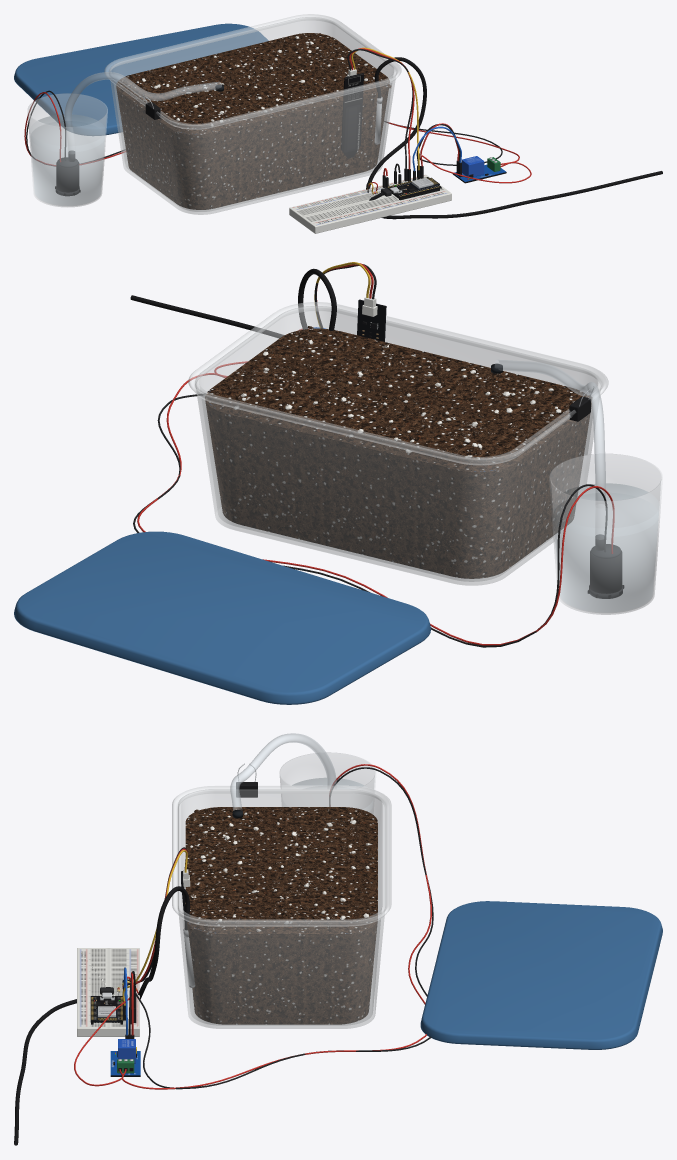
Rendered from farmhand.glb.
3 renders of one model, top to bottom at view 1: azimuth 30°, elevation 25°; view 2: azimuth 150°, elevation 25°; view 3: azimuth 270°, elevation 25°, orthographic. The views are drawn at different scales.
Visible parts, largest first — view 1: Soil, Pot, Lid, Cup, Water, Breadboard, Wires, Rim, Crumbs, Tube, Probe, UsbCable (+3 smaller); view 2: Soil, Pot, Lid, Cup, Water, Rim, Crumbs, Wires, Tube, Pump, Probe, UsbCable; view 3: Soil, Lid, Pot, Wires, Rim, Crumbs, Breadboard, Cup, Tube, Relay, ESP32, UsbCable.
Part boxes in pixels (x1=…): Soil: x1=116, y1=33, x2=389, y2=209; Pot: x1=109, y1=17, x2=396, y2=214; Lid: x1=14, y1=23, x2=268, y2=135; Cup: x1=28, y1=93, x2=107, y2=207; Water: x1=30, y1=114, x2=104, y2=205; Breadboard: x1=289, y1=174, x2=451, y2=233; Wires: x1=24, y1=47, x2=531, y2=194; Rim: x1=104, y1=14, x2=401, y2=129; Crumbs: x1=119, y1=33, x2=391, y2=135; Tube: x1=64, y1=72, x2=221, y2=153; Probe: x1=341, y1=68, x2=363, y2=158; UsbCable: x1=369, y1=171, x2=662, y2=219; Soil: x1=205, y1=328, x2=591, y2=578; Pot: x1=195, y1=306, x2=601, y2=585; Lid: x1=14, y1=531, x2=430, y2=704; Cup: x1=549, y1=454, x2=662, y2=614; Water: x1=553, y1=483, x2=659, y2=612; Rim: x1=188, y1=302, x2=608, y2=465; Crumbs: x1=205, y1=326, x2=591, y2=469; Wires: x1=133, y1=262, x2=614, y2=647; Tube: x1=495, y1=359, x2=605, y2=539; Pump: x1=588, y1=534, x2=623, y2=598; Probe: x1=357, y1=297, x2=386, y2=341; UsbCable: x1=130, y1=295, x2=284, y2=338; Soil: x1=185, y1=807, x2=377, y2=1024; Lid: x1=420, y1=901, x2=662, y2=1049; Pot: x1=178, y1=789, x2=385, y2=1028; Wires: x1=74, y1=764, x2=433, y2=1089; Rim: x1=172, y1=785, x2=391, y2=926; Crumbs: x1=189, y1=807, x2=374, y2=931; Breadboard: x1=77, y1=948, x2=139, y2=1036; Cup: x1=279, y1=752, x2=376, y2=813; Tube: x1=230, y1=733, x2=336, y2=810; Relay: x1=110, y1=1039, x2=140, y2=1076; ESP32: x1=90, y1=992, x2=123, y2=1024; UsbCable: x1=14, y1=987, x2=113, y2=1145.
Size of the model in its own units: 6.02 by 1.72 by 5.62.
44 materials, 8 textured.
